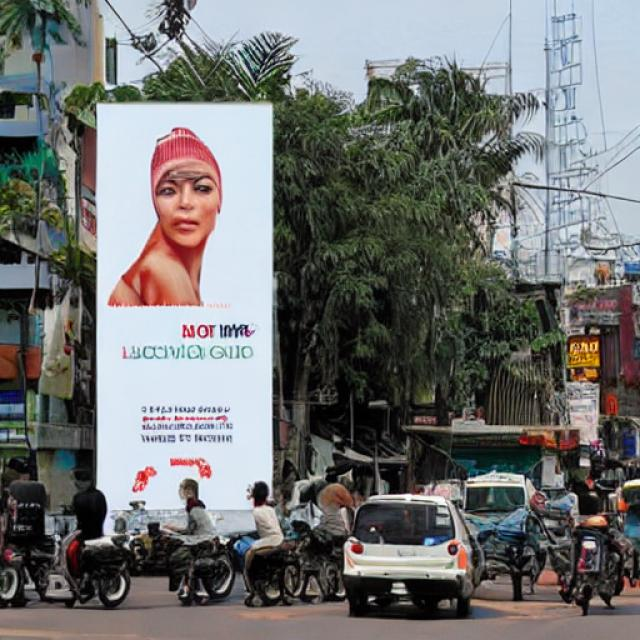Billboard: (92, 99, 278, 538)
